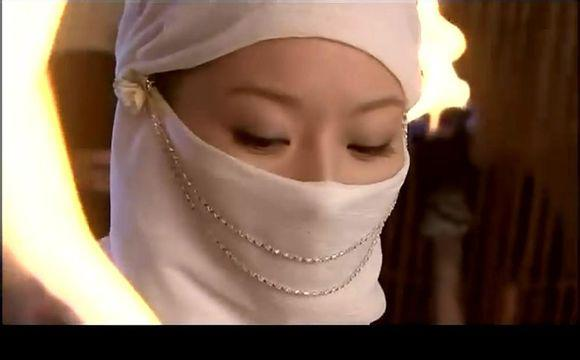OK: (186, 56, 408, 286)
